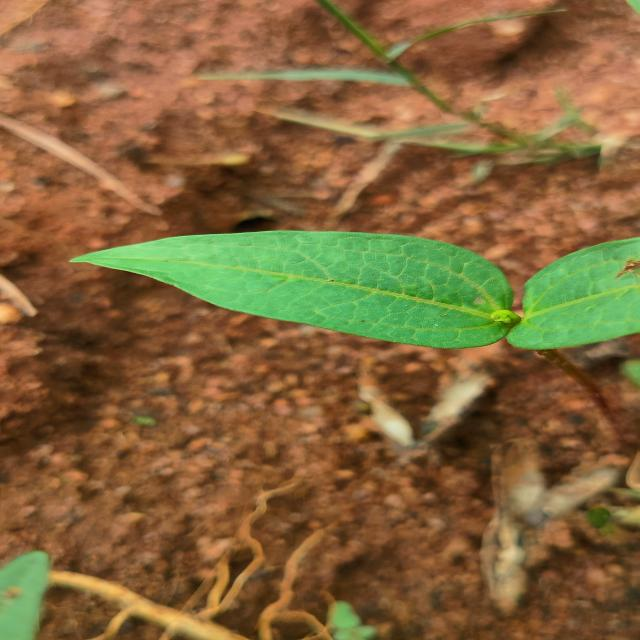Black gram_healthy: (65, 226, 508, 346)
